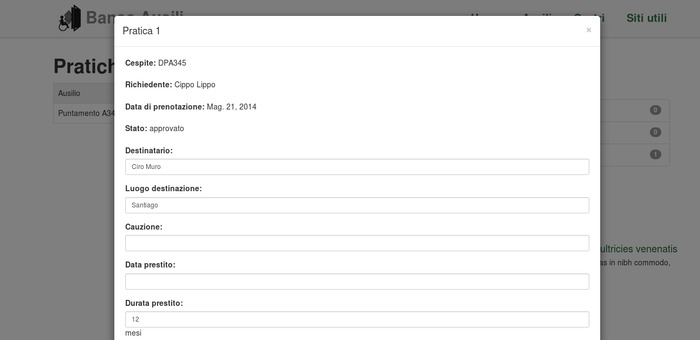_form_: (118, 1, 594, 337)
field: (122, 232, 591, 254), (123, 308, 591, 330), (124, 271, 592, 292), (123, 157, 590, 177), (123, 195, 590, 215)
field_with_label: (122, 259, 594, 293), (120, 222, 593, 255), (121, 184, 593, 217), (121, 299, 593, 332), (121, 145, 592, 178)
